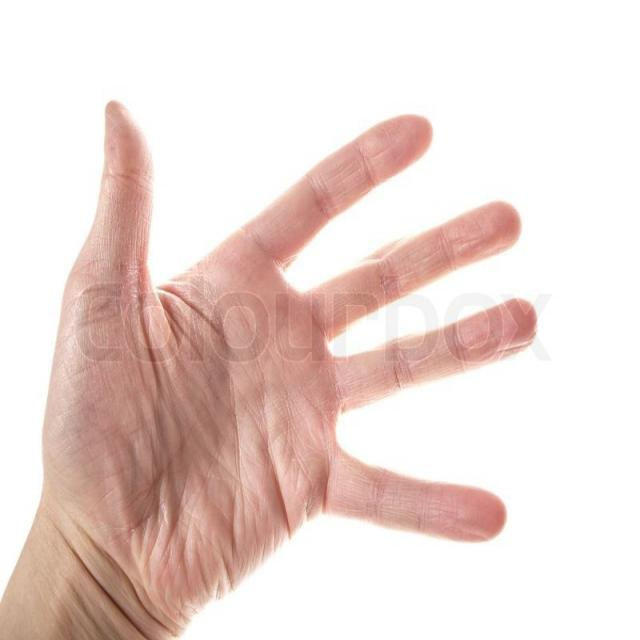bare_hand: (38, 99, 538, 637)
